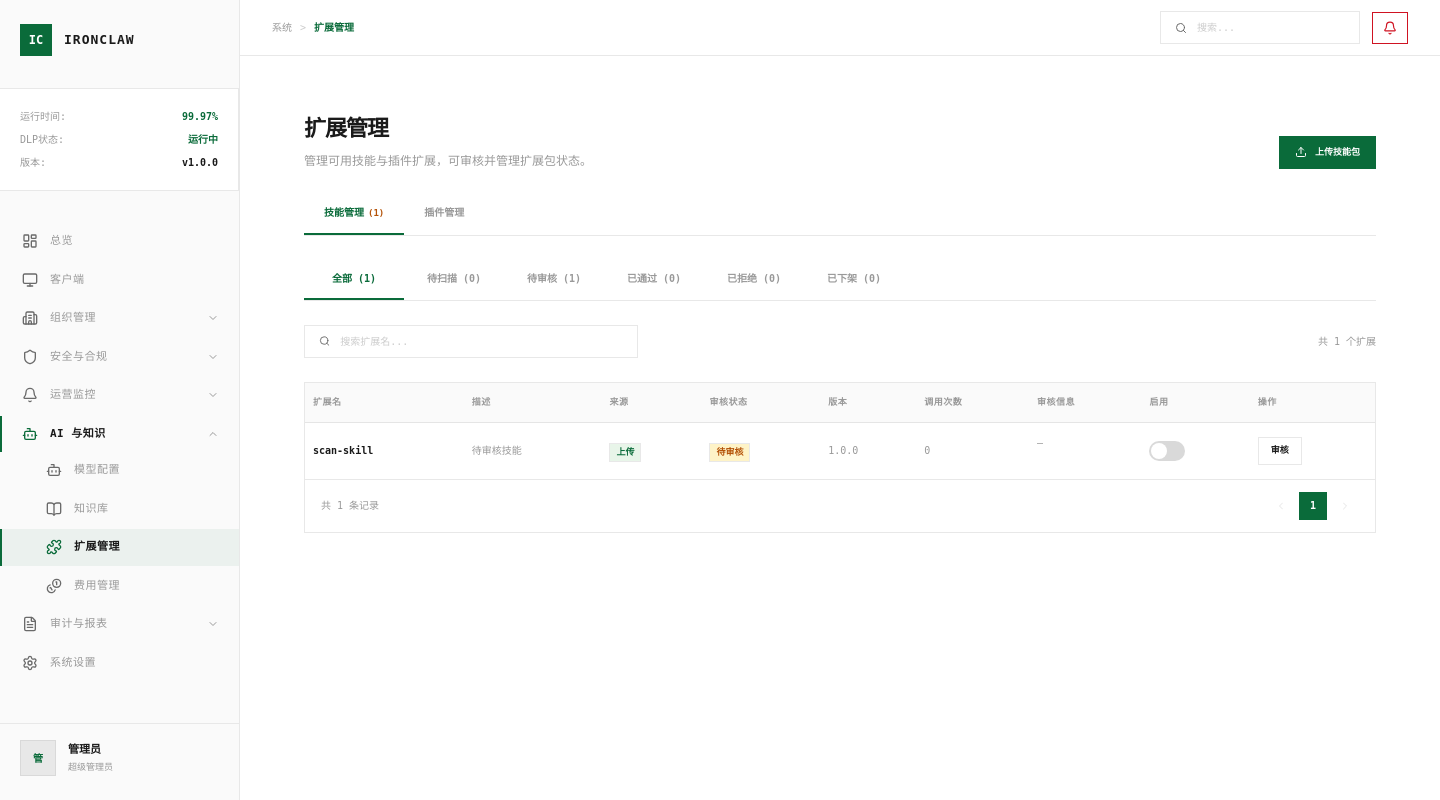
Test case: 扩展管理 › 审核与扫描结果 › 点击审核后应打开弹窗并拉取扫描结果
Click the button "审核": (1280, 451) [1258,437,1302,465]
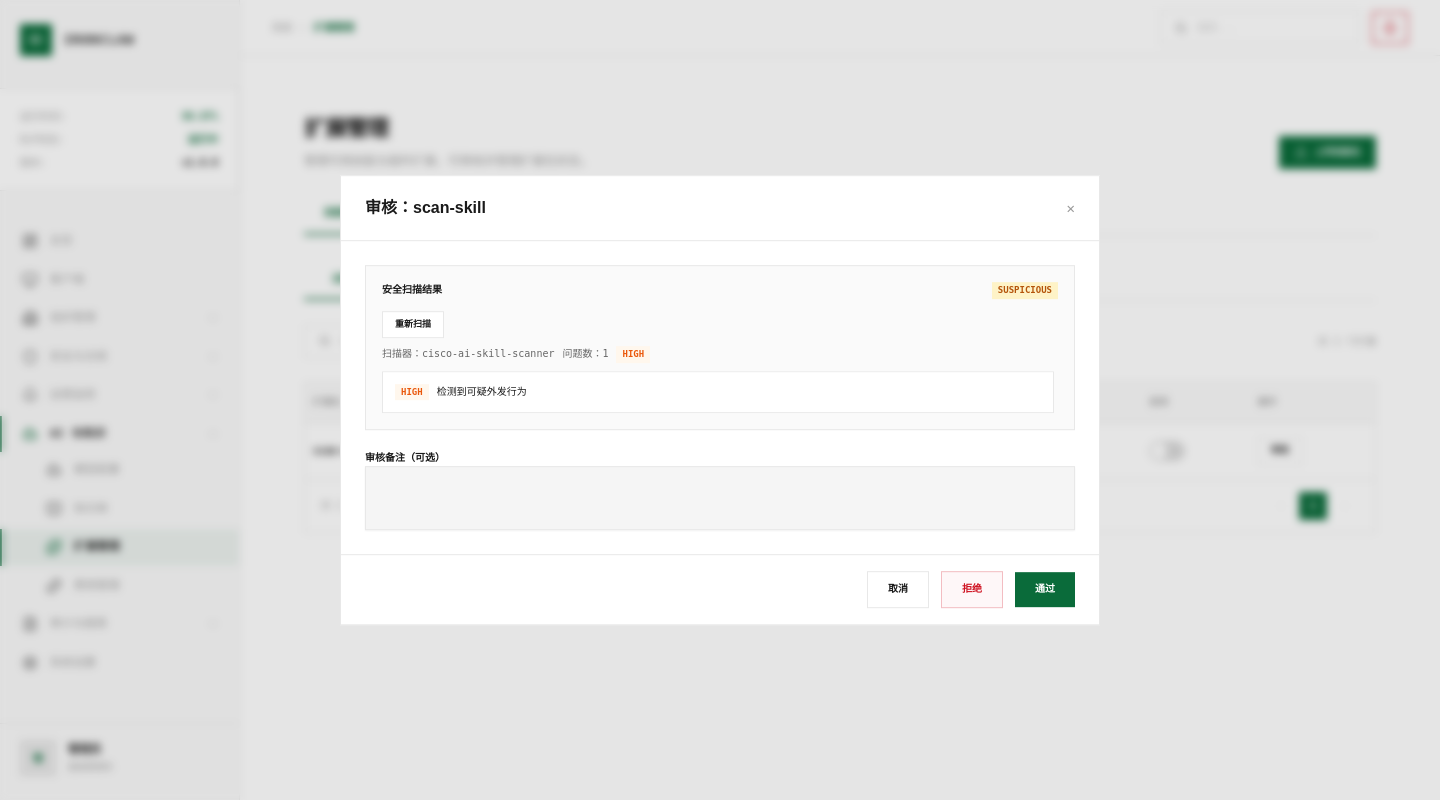
Check: the heading "审核：scan-skill" is shown, box [365,196,486,220]
Check: the heading "安全扫描结果" is shown, box [382,284,442,298]
Check: the text "SUSPICIOUS" is shown, box [992,282,1058,299]
